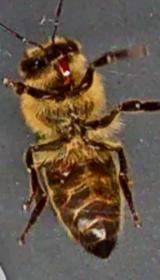varroa_mite: (36, 145, 78, 190)
